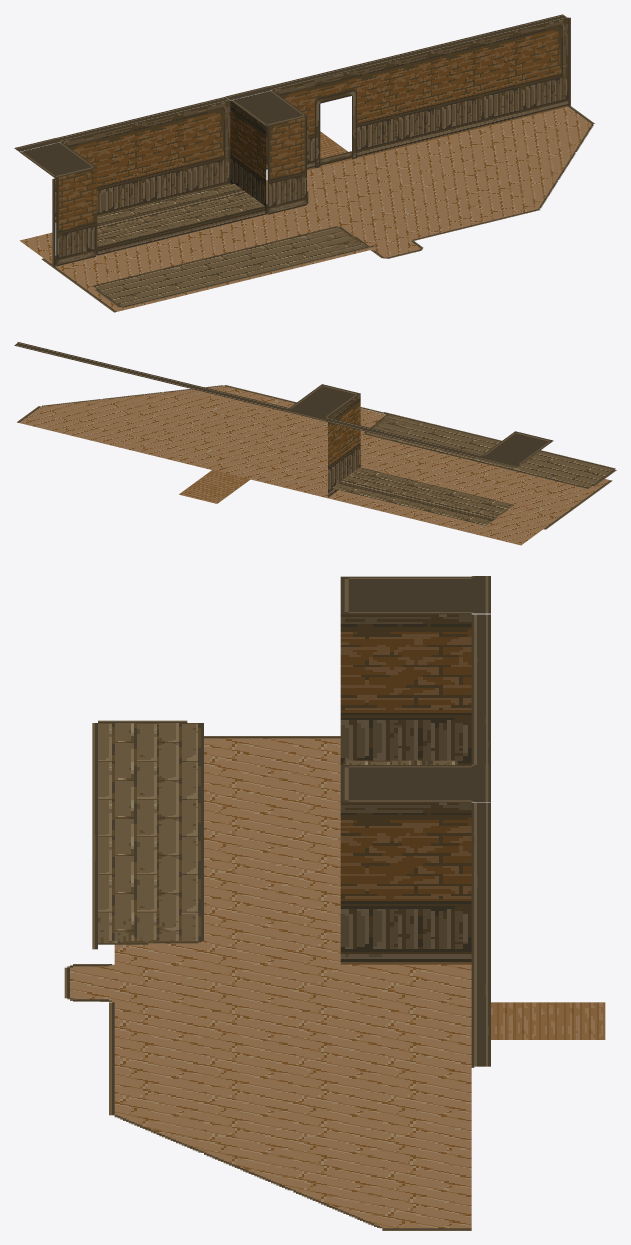
Rendered from Cafe_Town.gltf.
3 renders of one model, top to bottom at view 1: azimuth 30°, elevation 25°; view 2: azimuth 150°, elevation 25°; view 3: azimuth 270°, elevation 25°, orthographic. The views are drawn at different scales.
Visible parts, largest first — view 1: walls-col, floor-col, pallettes-col, Door; view 2: floor-col, pallettes-col, walls-col; view 3: floor-col, walls-col, pallettes-col.
Part boxes in pixels (<box>): walls-col: <box>14,14,570,267</box>; floor-col: <box>19,106,594,312</box>; pallettes-col: <box>93,183,368,307</box>; Door: <box>315,70,356,168</box>; floor-col: <box>17,385,615,545</box>; pallettes-col: <box>332,414,616,525</box>; walls-col: <box>14,342,553,497</box>; floor-col: <box>64,723,605,1230</box>; walls-col: <box>340,576,490,1067</box>; pallettes-col: <box>98,720,457,944</box>.
Size of the model in its own units: 26.25 by 4.01 by 13.
Materials: 15 (15 with a texture image).
